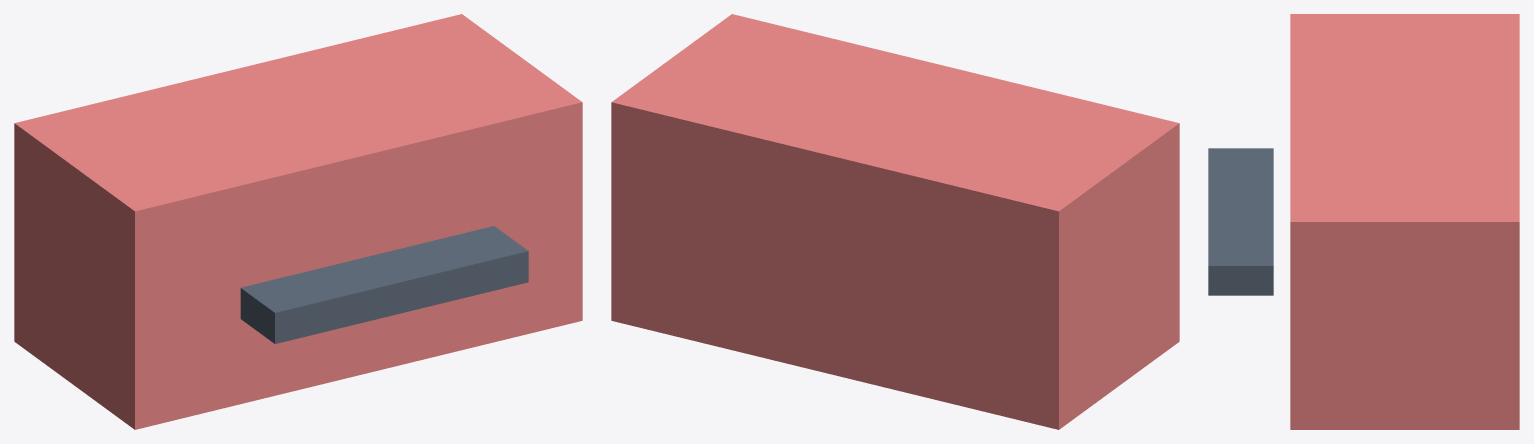
Rendered from toolbox.glb.
The picture shows the model from 3 angles, left to right: view 1: azimuth 30°, elevation 25°; view 2: azimuth 150°, elevation 25°; view 3: azimuth 270°, elevation 25°; orthographic projection. The views are drawn at different scales.
Parts seen in each view (by area): view 1: toolbox_0, handle_1; view 2: toolbox_0; view 3: toolbox_0, handle_1.
Boxes of the visible parts, x1,y1,x2,y2 form: toolbox_0: (14, 14, 582, 429); handle_1: (240, 226, 528, 343); toolbox_0: (611, 14, 1179, 429); toolbox_0: (1290, 14, 1519, 429); handle_1: (1208, 148, 1273, 295).
Bounding box in the file's own units: 0.6 × 0.28 × 0.38.
